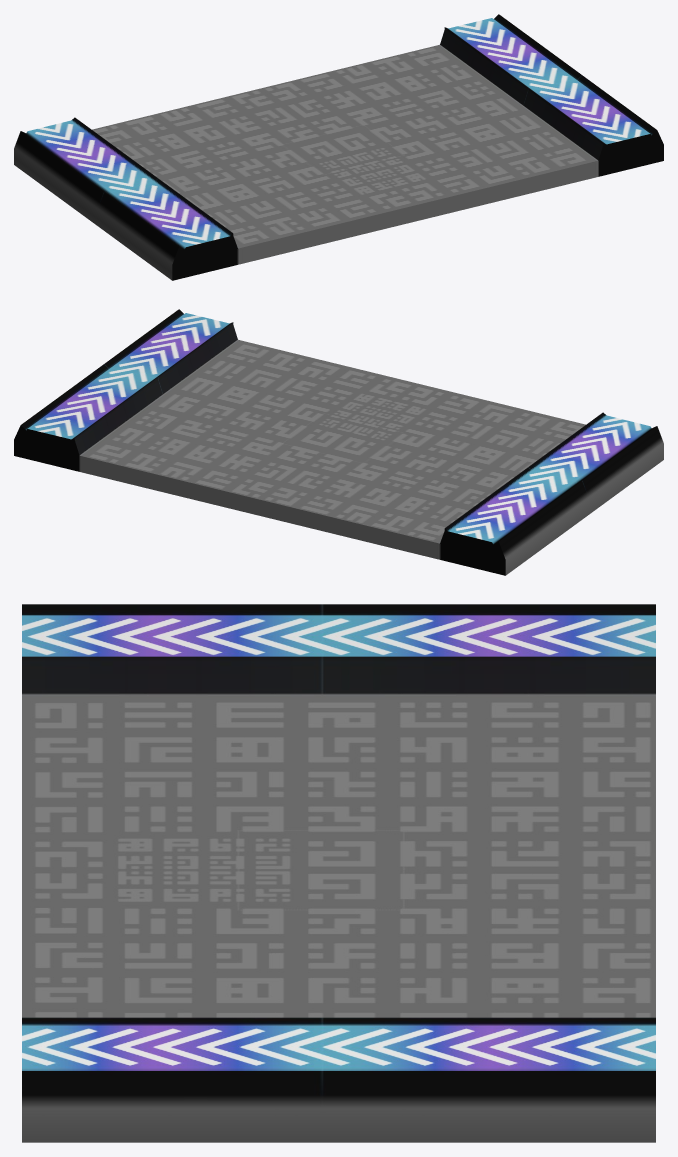
Rendered from street_v1_texta.glb.
3 renders of one model, top to bottom at view 1: azimuth 30°, elevation 25°; view 2: azimuth 150°, elevation 25°; view 3: azimuth 270°, elevation 25°, orthographic. The views are drawn at different scales.
Parts seen in each view (by area): view 1: street.003; view 2: street.003; view 3: street.003.
Boxes of the visible parts, box(x1,y1,x2,y2) form: street.003: box(14, 14, 663, 280); street.003: box(14, 309, 663, 575); street.003: box(22, 604, 655, 1142).
Bounding box in the file's own units: 3.58 × 0.2281 × 2.
Materials: 1 (1 with a texture image).
